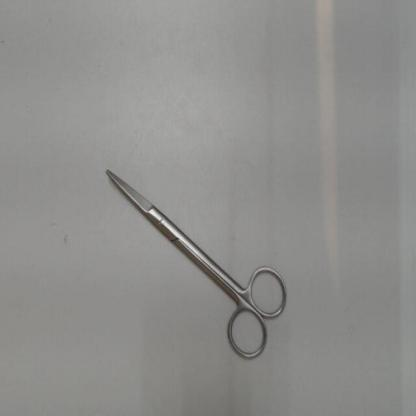Curved Mayo Scissors: (99, 162, 296, 366)
